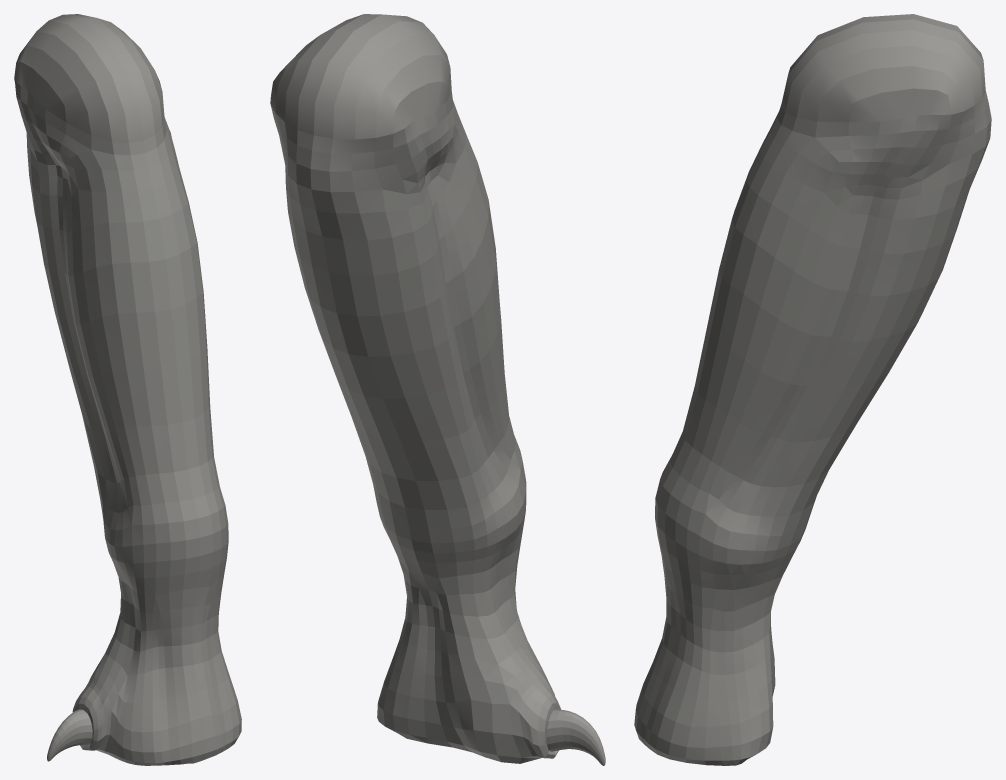
The model's file is pieDer1.obj.
3 views of the same model, side by side, from view 1: azimuth 30°, elevation 25°; view 2: azimuth 150°, elevation 25°; view 3: azimuth 270°, elevation 25° (orthographic). The views are drawn at different scales.
Visible parts, largest first — view 1: polySurface158; view 2: polySurface158; view 3: polySurface158.
Part boxes in pixels (x1,y1,x2,y2): polySurface158: [14, 14, 241, 765]; polySurface158: [270, 14, 605, 765]; polySurface158: [634, 14, 991, 765].
Size of the model in its own units: 0.8703 by 2.99 by 1.35.
Materials: 2 (2 with a texture image).
